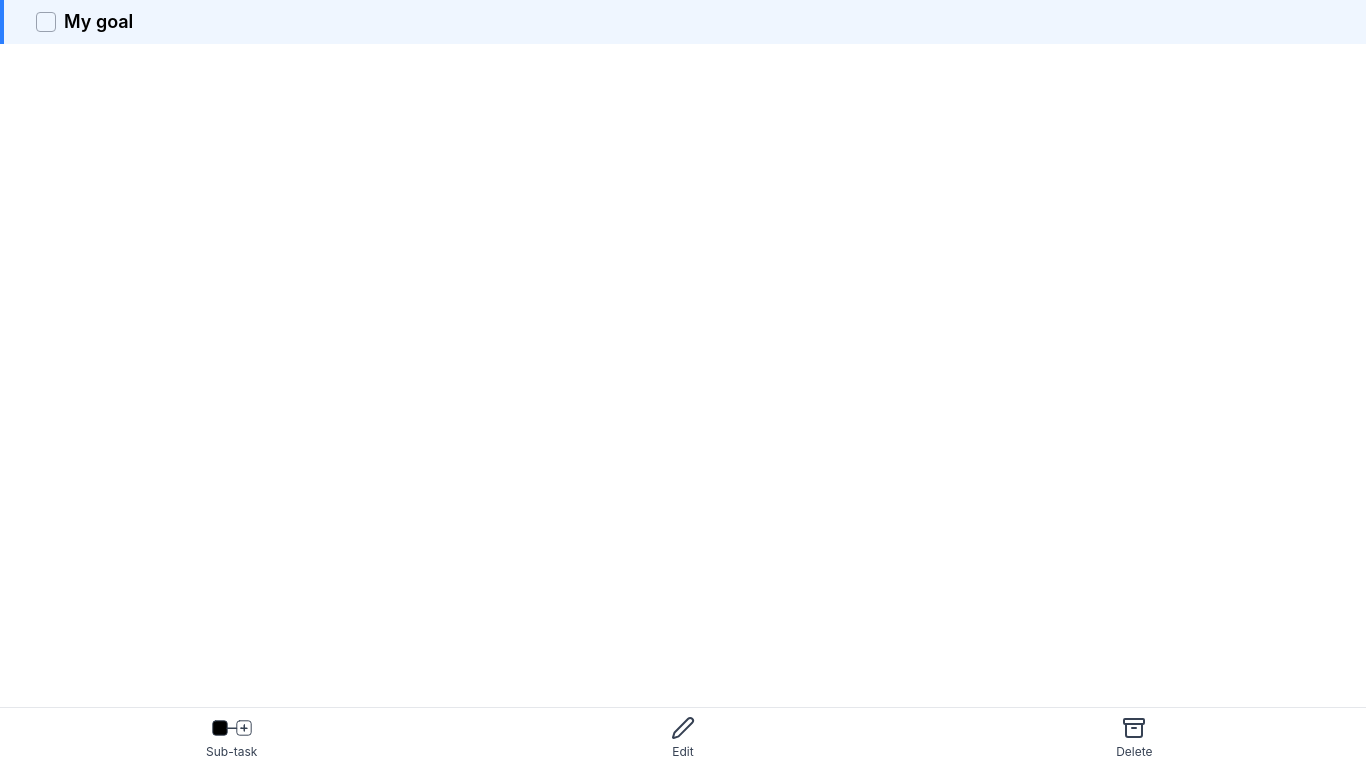
Test: MobileActionBar › add sub-task enters editing mode visible in outline
Click the button "Sub-task" at (232, 738), box left=202, top=716, right=262, bottom=760
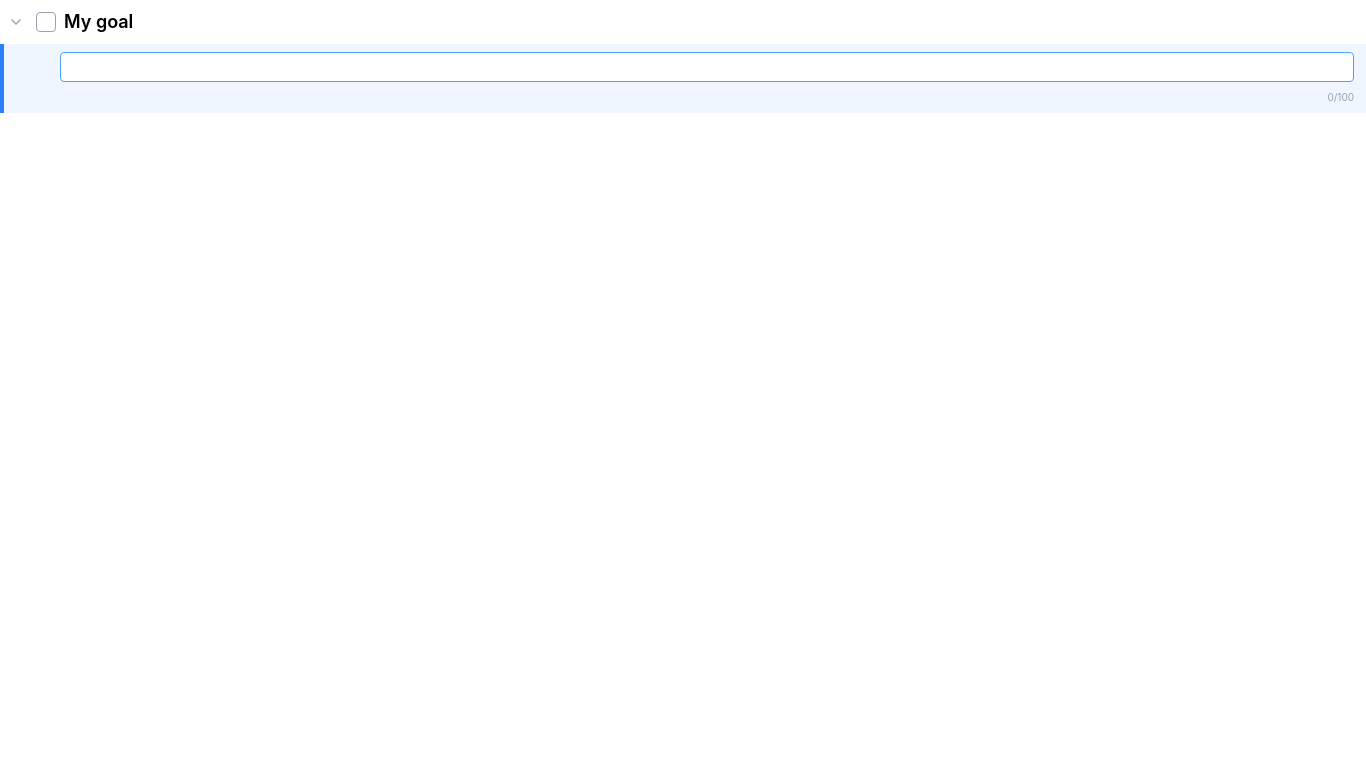
Now the text box named "Task label" is shown, box left=60, top=52, right=1354, bottom=82
